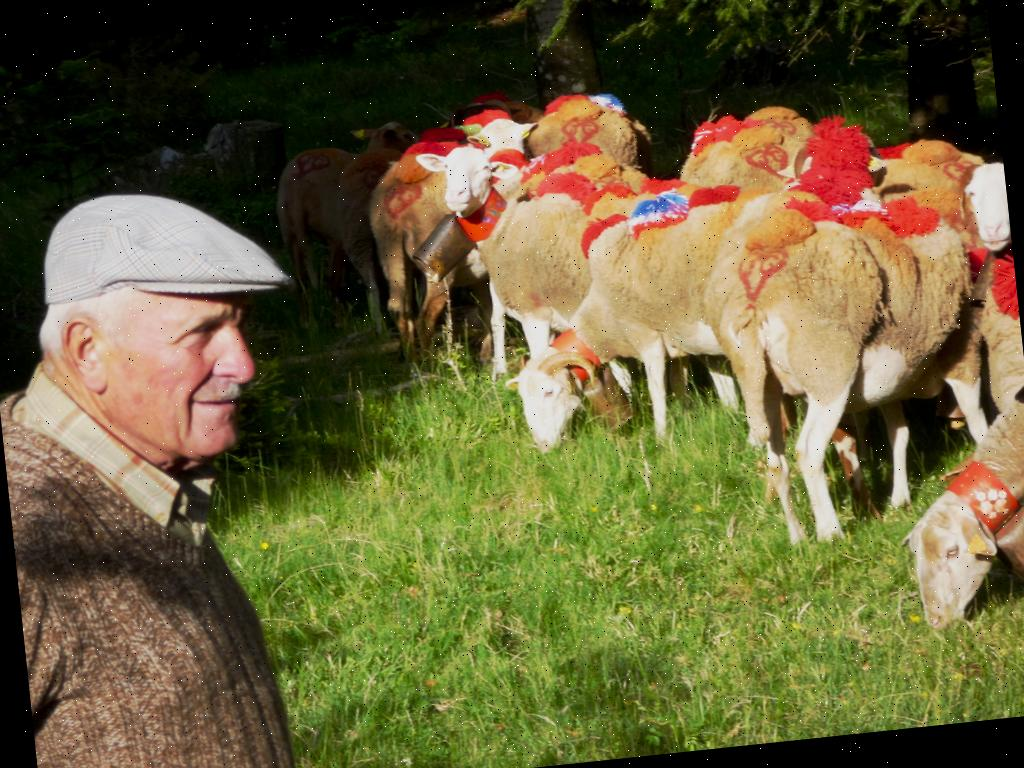Sheep: (725, 154, 1024, 556), (484, 191, 864, 465), (408, 114, 704, 392), (884, 381, 1024, 634)
